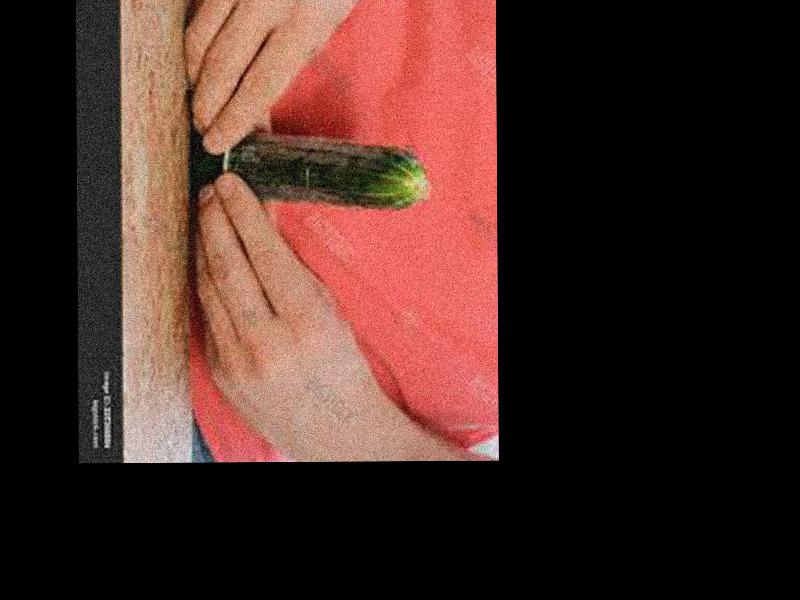Cucumber: (192, 132, 428, 212)
